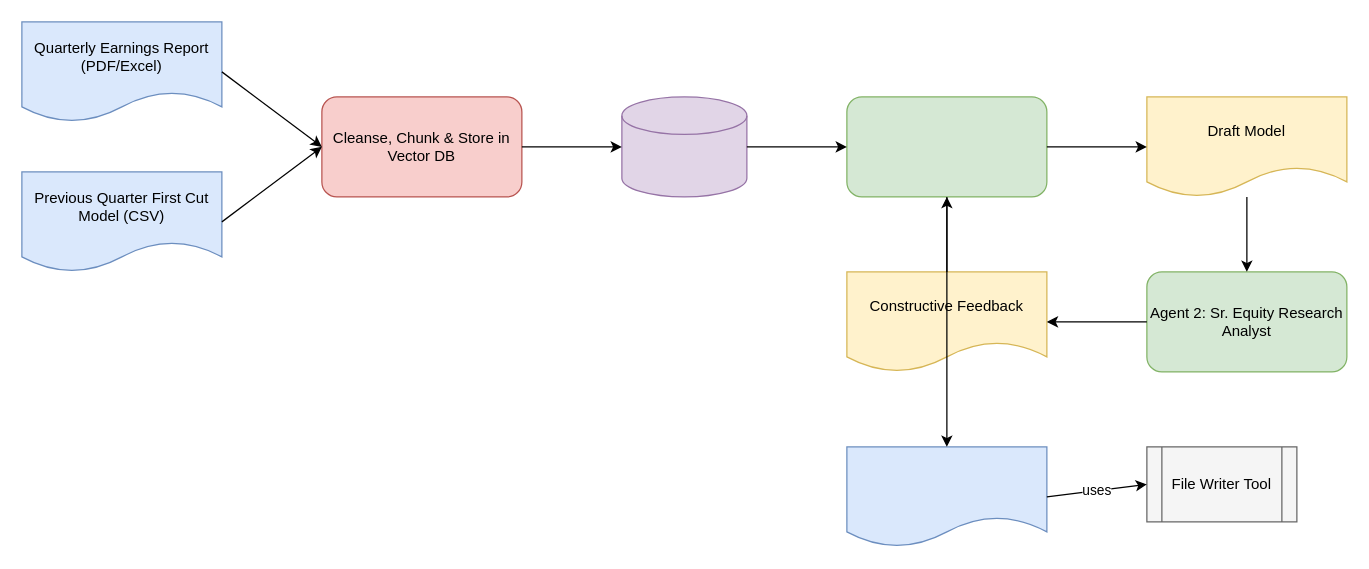
This 1369x569 diagram has some shape labels left out. Here are the shapes that lost their labels. From the top down, the box of each, then its label:
(621, 96, 747, 197): Vector DB
(846, 96, 1047, 197): Agent 1: Equity Research Analyst
(846, 446, 1047, 547): Final First Cut Model (CSV)
